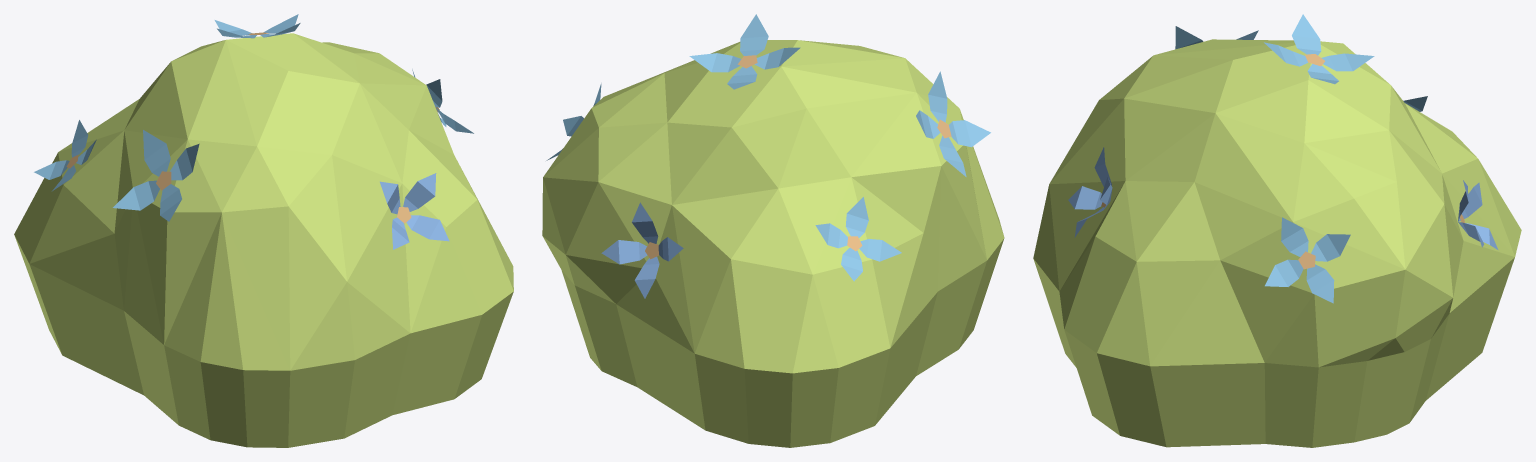
Rendered from FlowerBush_b_l_03.fbx.
3 views of the same model, side by side, from view 1: azimuth 30°, elevation 25°; view 2: azimuth 150°, elevation 25°; view 3: azimuth 270°, elevation 25° (orthographic). The views are drawn at different scales.
Parts seen in each view (by area): view 1: FlowerBush_b_l_03; view 2: FlowerBush_b_l_03; view 3: FlowerBush_b_l_03.
Part boxes in pixels (x1=…): FlowerBush_b_l_03: x1=14, y1=14, x2=513, y2=447; FlowerBush_b_l_03: x1=542, y1=14, x2=1004, y2=447; FlowerBush_b_l_03: x1=1033, y1=14, x2=1521, y2=447.
Bounding box in the file's own units: 2.62 × 2.17 × 2.83.
